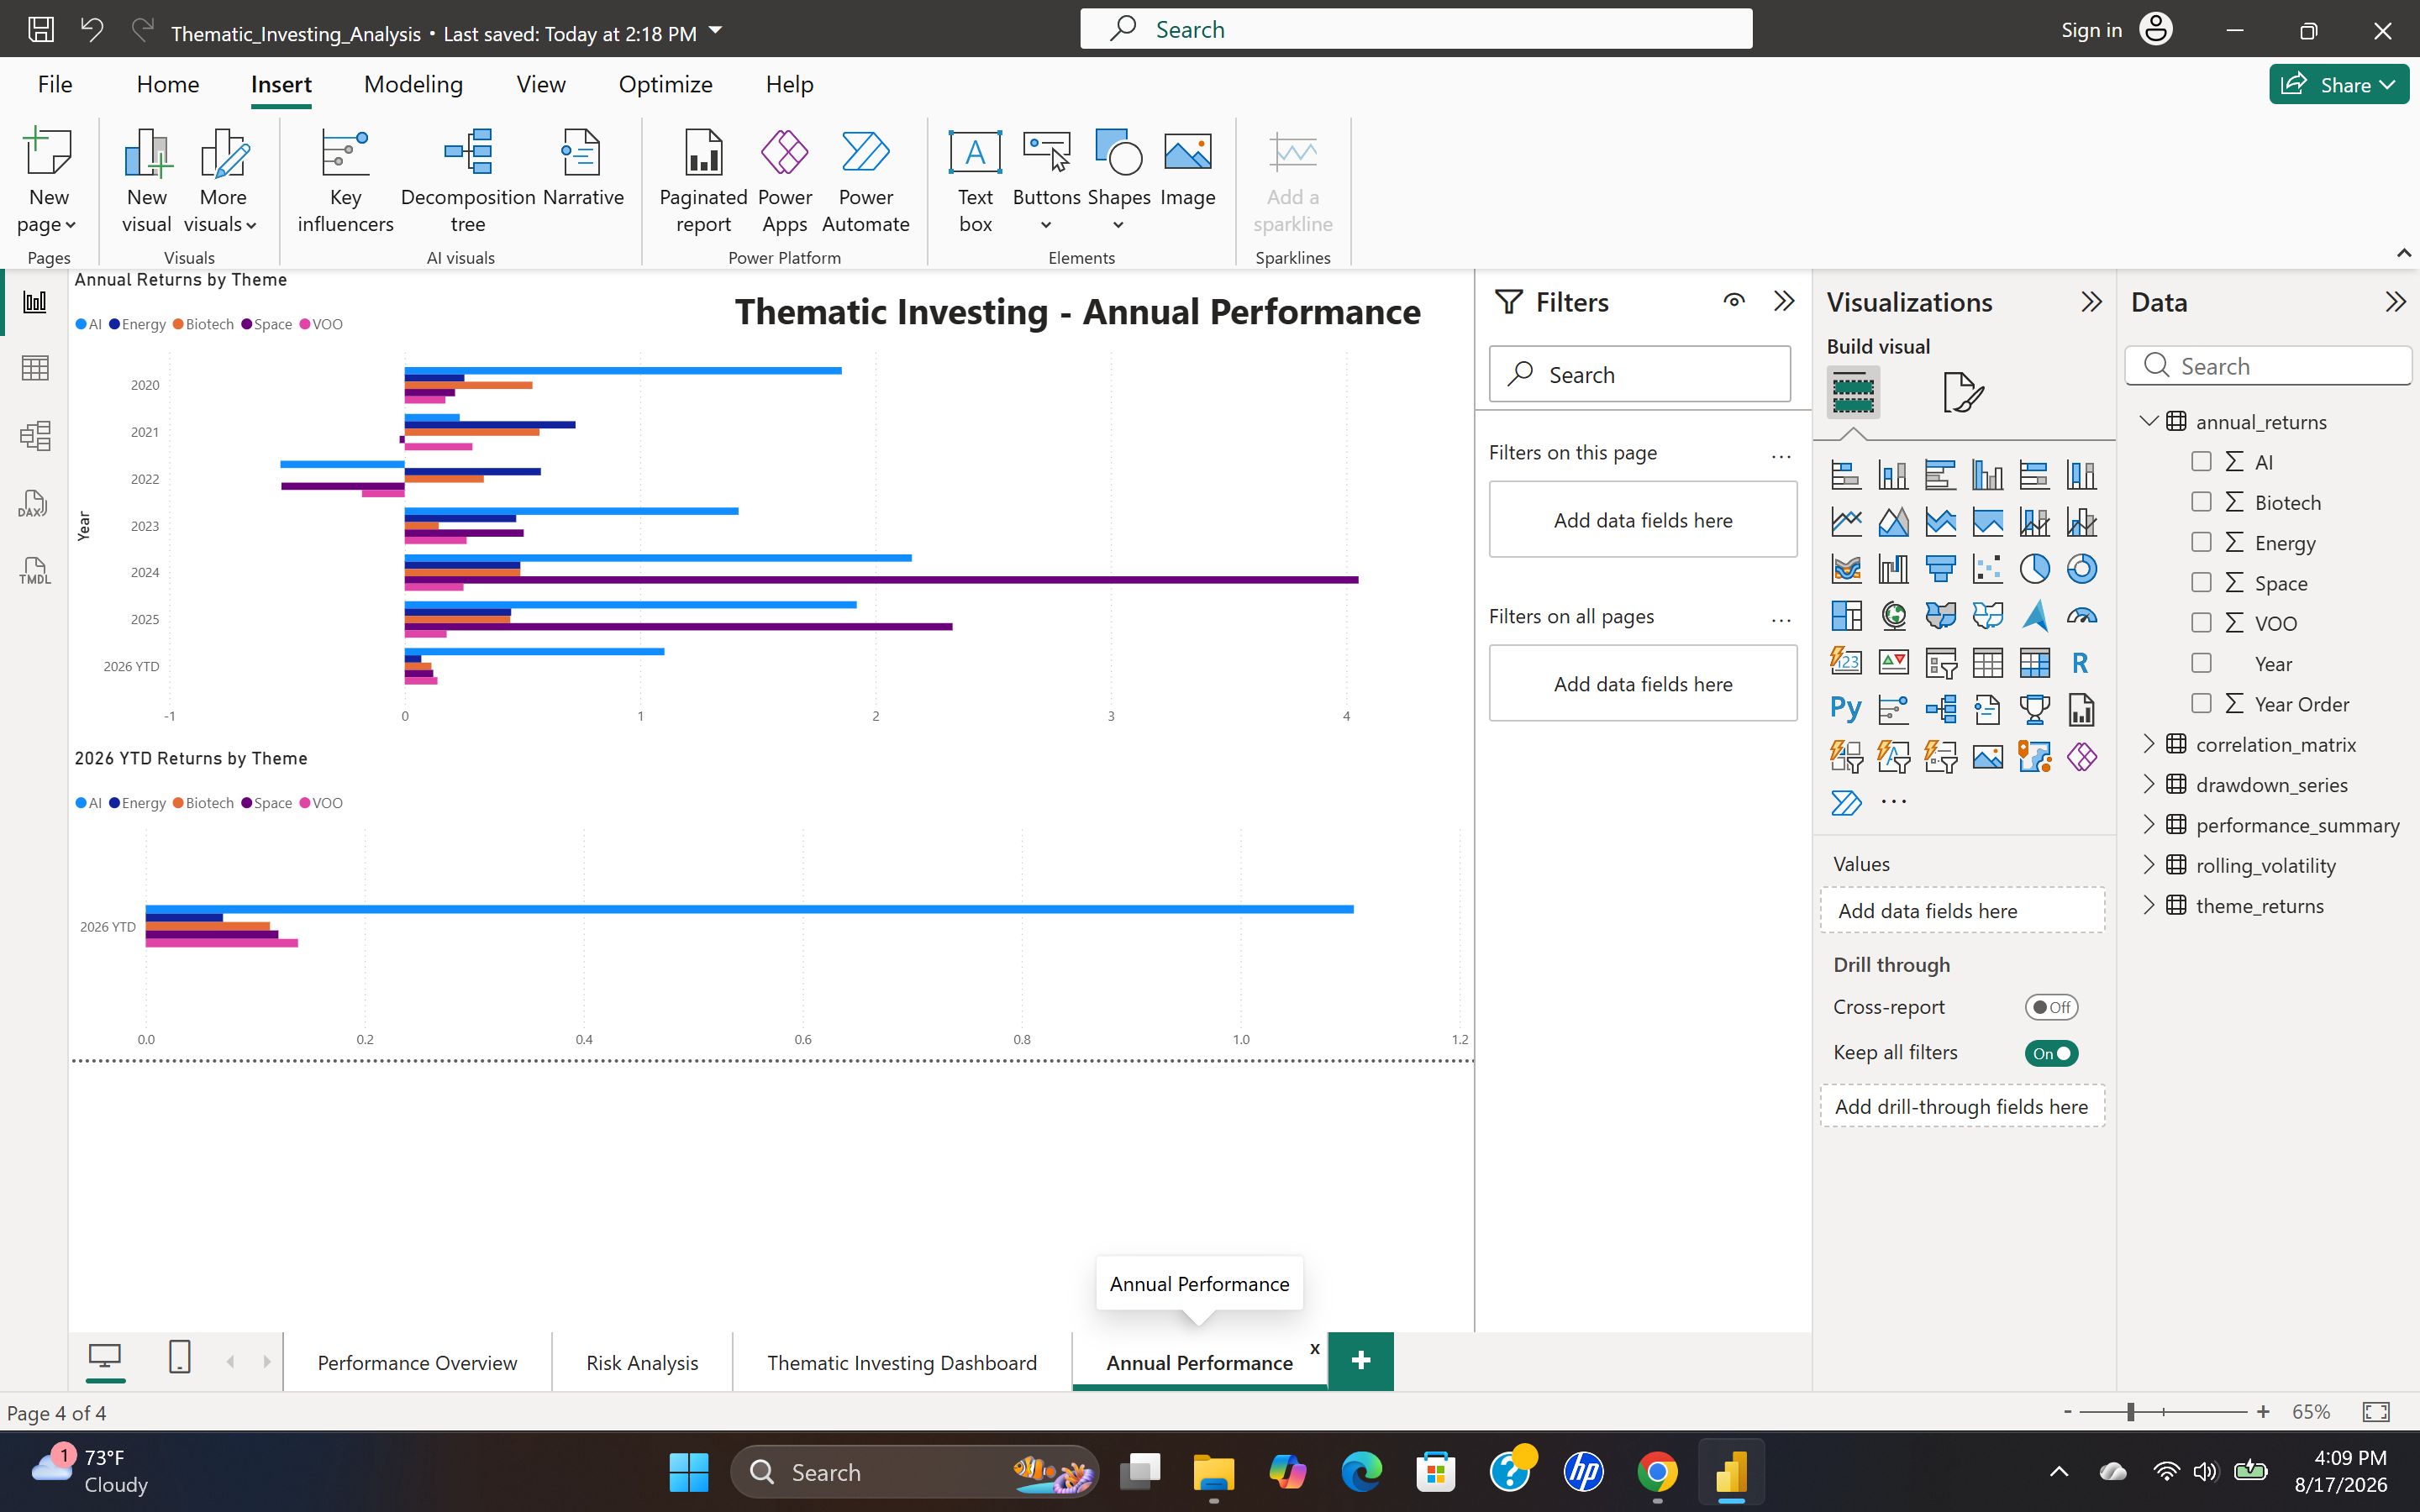

The page's visual inventory and layout, read from the dashboard file:
{"tool":"powerbi","page":{"name":"Annual Performance","canvas":[1280,720],"ordinal":3},"visuals":[{"type":"clusteredBarChart","title":"Annual Returns by Theme","fields":{"Category":["annual_returns.Year"],"Y":["Sum(annual_returns.AI)","Sum(annual_returns.Energy)","Sum(annual_returns.Biotech)","Sum(annual_returns.Space)","Sum(annual_returns.VOO)"]},"box":[0,0,1280,425.6],"z":0},{"type":"clusteredBarChart","title":"2026 YTD Returns by Theme","fields":{"Category":["annual_returns.Year"],"Y":["Sum(annual_returns.AI)","Sum(annual_returns.Energy)","Sum(annual_returns.Biotech)","Sum(annual_returns.Space)","Sum(annual_returns.VOO)"]},"box":[0,436,1280,284],"z":1000},{"type":"textbox","box":[601.7,10.7,652.2,53.6],"z":1001}]}

Visuals, with their boxes on the page's 1280x720 design canvas (x1, y1, x2, y2). These are canvas units, not pixel positions in the 2420x1512 screenshot, which may show the page scaled, cropped or inside an application window:
"Annual Returns by Theme" clusteredBarChart: detection(0, 0, 1280, 426)
"2026 YTD Returns by Theme" clusteredBarChart: detection(0, 436, 1280, 720)
textbox: detection(602, 11, 1254, 64)
